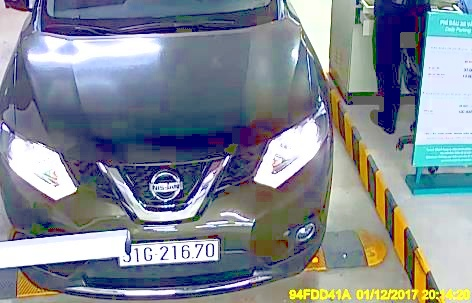plate: (115, 238, 219, 263)
